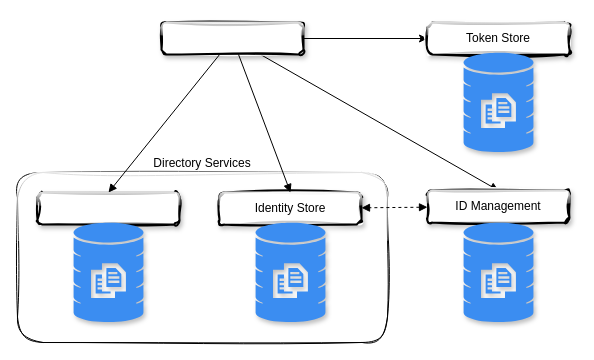
This 594x360 diagram has some shape labels left out. Each missing label, with the centre of its shape:
"Access Management" goes at point 233,39.
"Config Store" goes at point 109,209.
